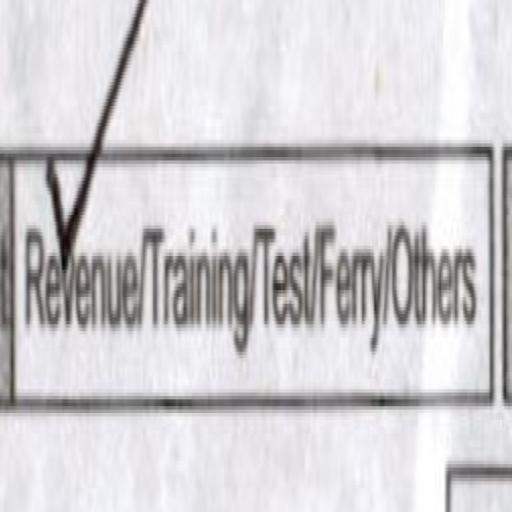check: (16, 5, 148, 433)
